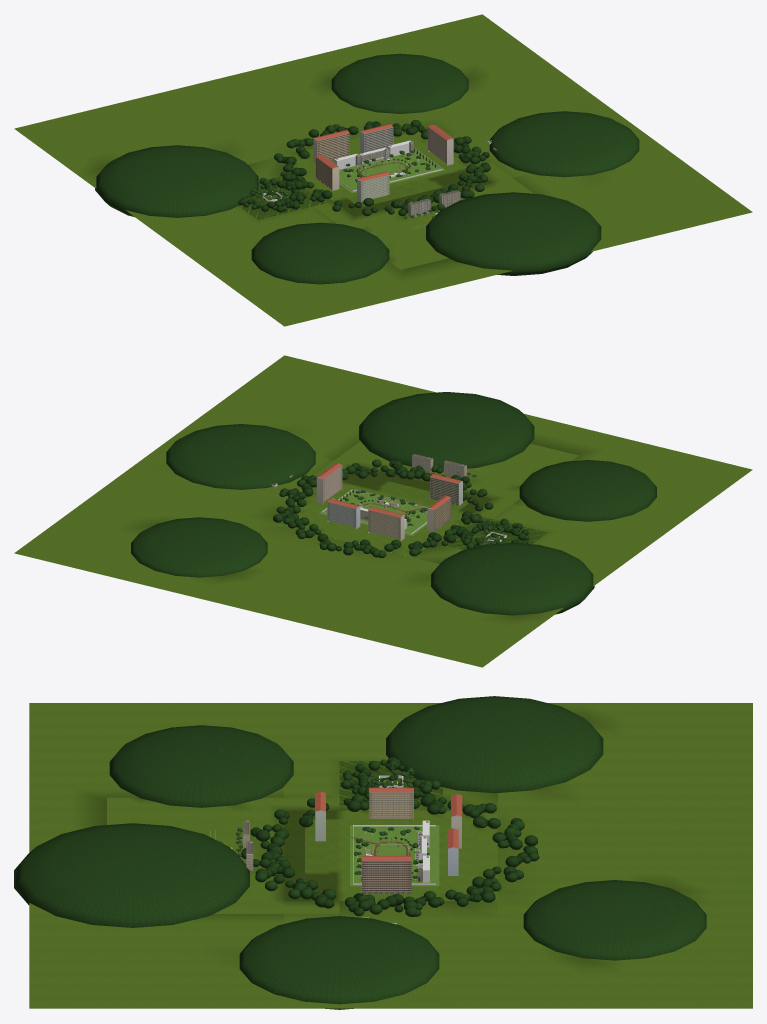
Rendered from camp-mobile.glb.
3 renders of one model, top to bottom at view 1: azimuth 30°, elevation 25°; view 2: azimuth 150°, elevation 25°; view 3: azimuth 270°, elevation 25°, orthographic. The views are drawn at different scales.
Parts seen in each view (by area): view 1: Parade_Static, CC_Static, NOW_Blocks, Night_Static, NOW_Lawn; view 2: Parade_Static, CC_Static, NOW_Blocks, Night_Static, NOW_Lawn; view 3: Parade_Static, CC_Static, NOW_Blocks, NOW_Lawn, Night_Static.
Part boxes in pixels (<box>): Parade_Static: <box>14,14,752,326</box>; CC_Static: <box>314,163,533,269</box>; NOW_Blocks: <box>313,124,453,202</box>; Night_Static: <box>238,176,323,219</box>; NOW_Lawn: <box>339,147,445,192</box>; Parade_Static: <box>14,355,752,667</box>; CC_Static: <box>314,441,578,518</box>; NOW_Blocks: <box>316,463,462,540</box>; Night_Static: <box>447,516,547,549</box>; NOW_Lawn: <box>319,489,427,535</box>; Parade_Static: <box>14,696,752,1009</box>; CC_Static: <box>107,797,339,913</box>; NOW_Blocks: <box>315,787,462,893</box>; NOW_Lawn: <box>350,825,439,886</box>; Night_Static: <box>339,757,442,804</box>.
Bounding box in the file's own units: 850 × 77.4 × 858.
8 materials, 5 textured.
